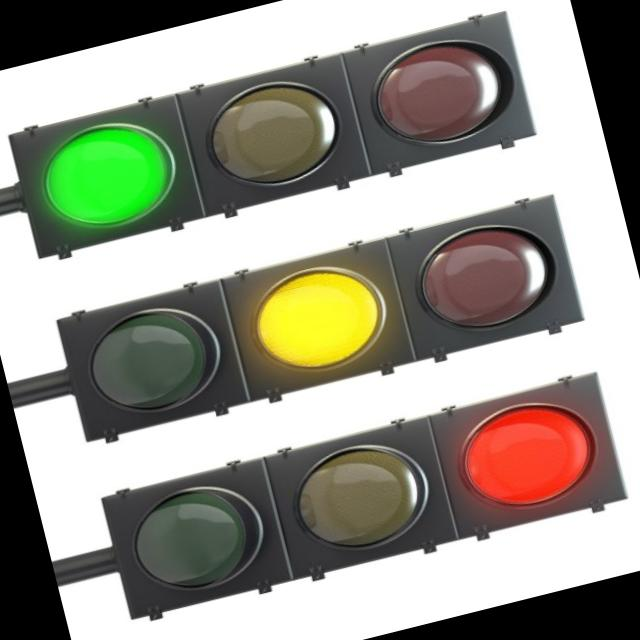green-lights: (35, 108, 202, 246)
red-lights: (463, 396, 595, 530)
yellow-lights: (223, 260, 406, 390)
